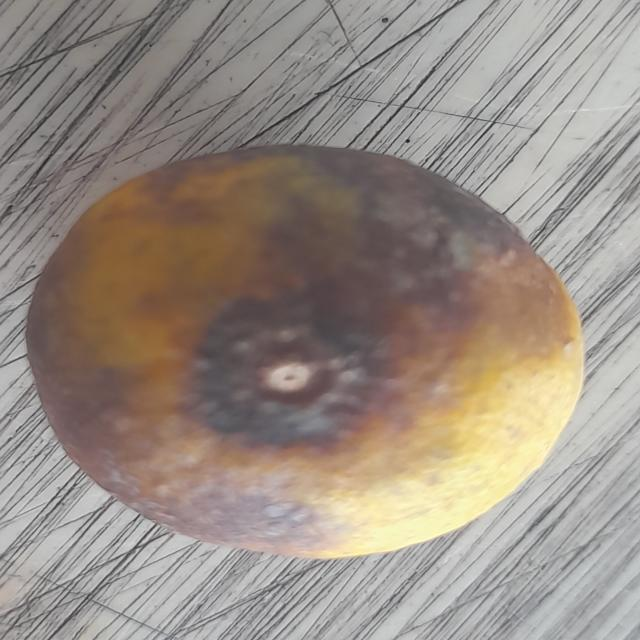black spot: (26, 130, 596, 571)
